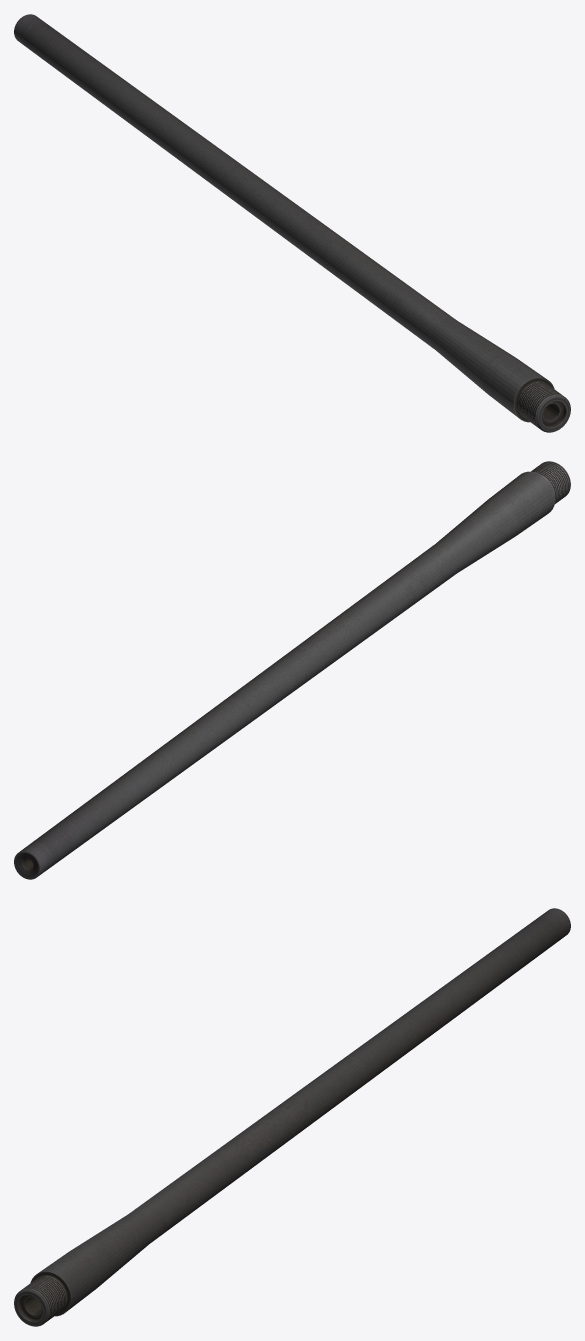
The picture shows the model from 3 angles, top to bottom: view 1: azimuth 30°, elevation 25°; view 2: azimuth 150°, elevation 25°; view 3: azimuth 330°, elevation 25°; orthographic projection.
Parts seen in each view (by area): view 1: TW_5d2702e88abbc31ed91efc44_PZ_Import; view 2: TW_5d2702e88abbc31ed91efc44_PZ_Import; view 3: TW_5d2702e88abbc31ed91efc44_PZ_Import.
Boxes of the visible parts, <box> form: TW_5d2702e88abbc31ed91efc44_PZ_Import: <box>14,14,570,432</box>; TW_5d2702e88abbc31ed91efc44_PZ_Import: <box>14,461,570,879</box>; TW_5d2702e88abbc31ed91efc44_PZ_Import: <box>14,908,570,1326</box>.
Size of the model in its own units: 0.0174 by 0.3815 by 0.0174.
Materials: 1 (1 with a texture image).
